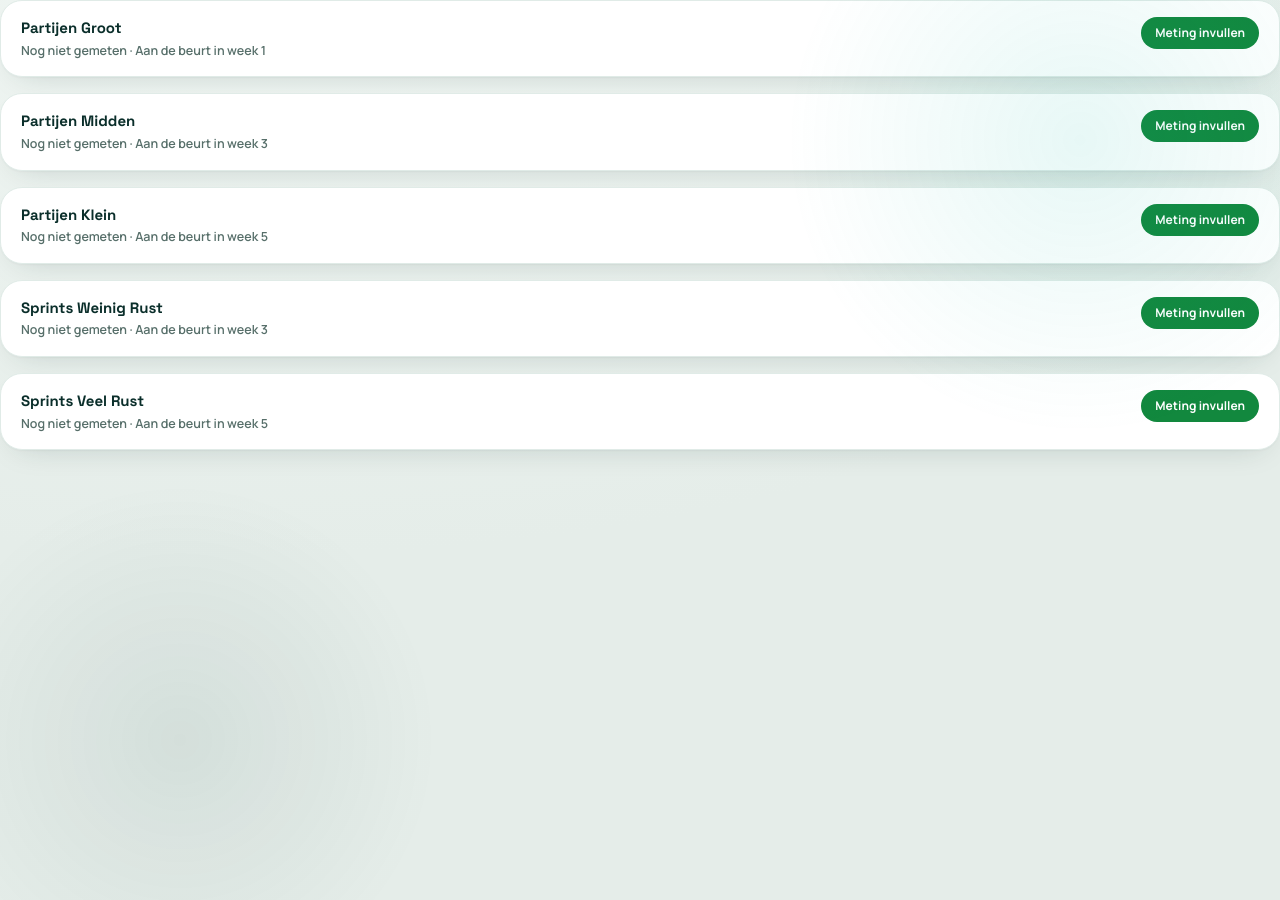
Test: SW1 — alle vijf de bladen sluiten met een veeg op de kop (echte componenten) › SW1: NulmetingManager
The width and height of the screenshot is (1280, 900).
Click the button "Meting invullen" in the row of "Partijen Groot": (1200, 33) [1141,17,1259,49]
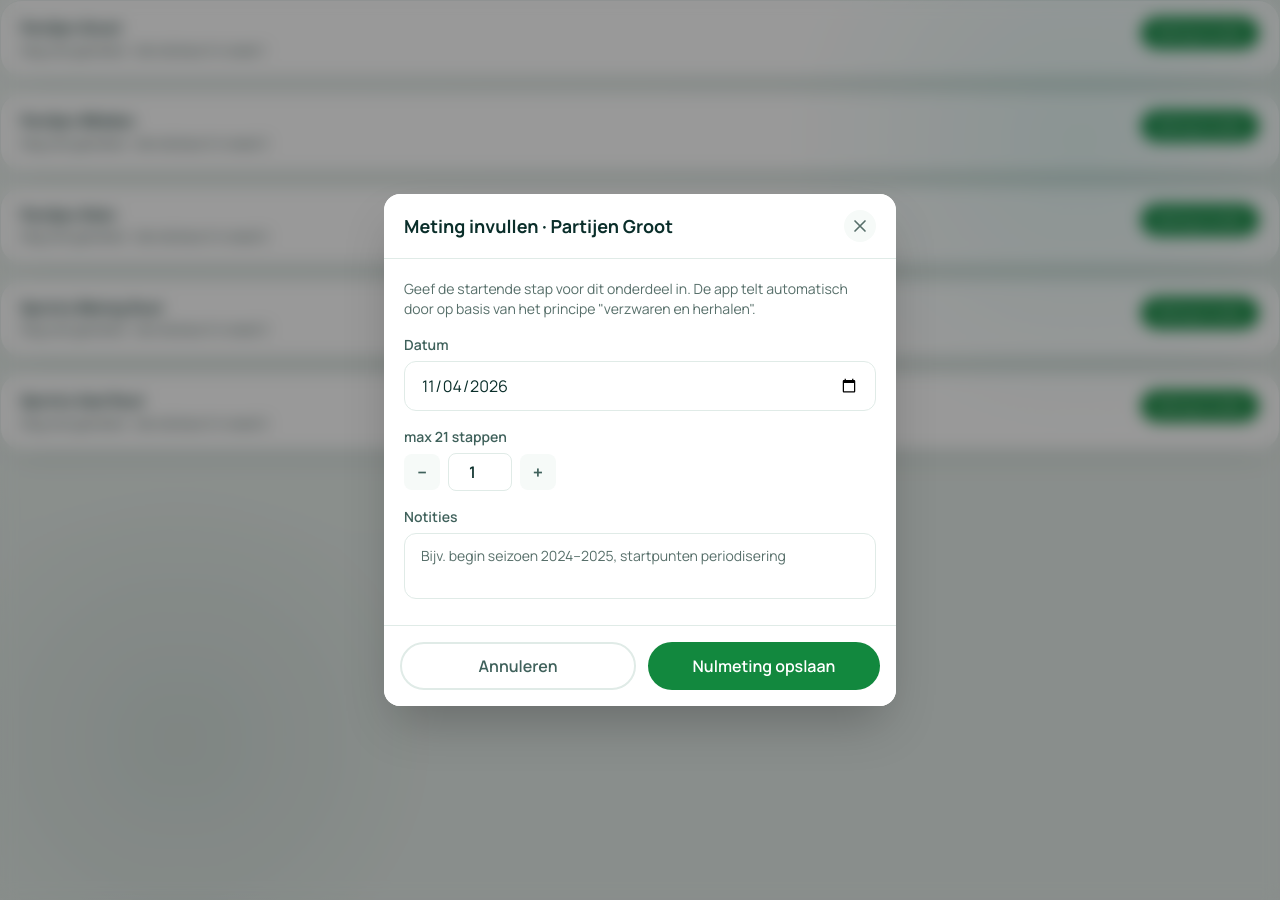
Now the dialog is shown, box [384,194,896,706]
Press the mouse on the element with test id "bottom-sheet-kop": (640, 226) [384,194,896,259]
Wait 290 ms
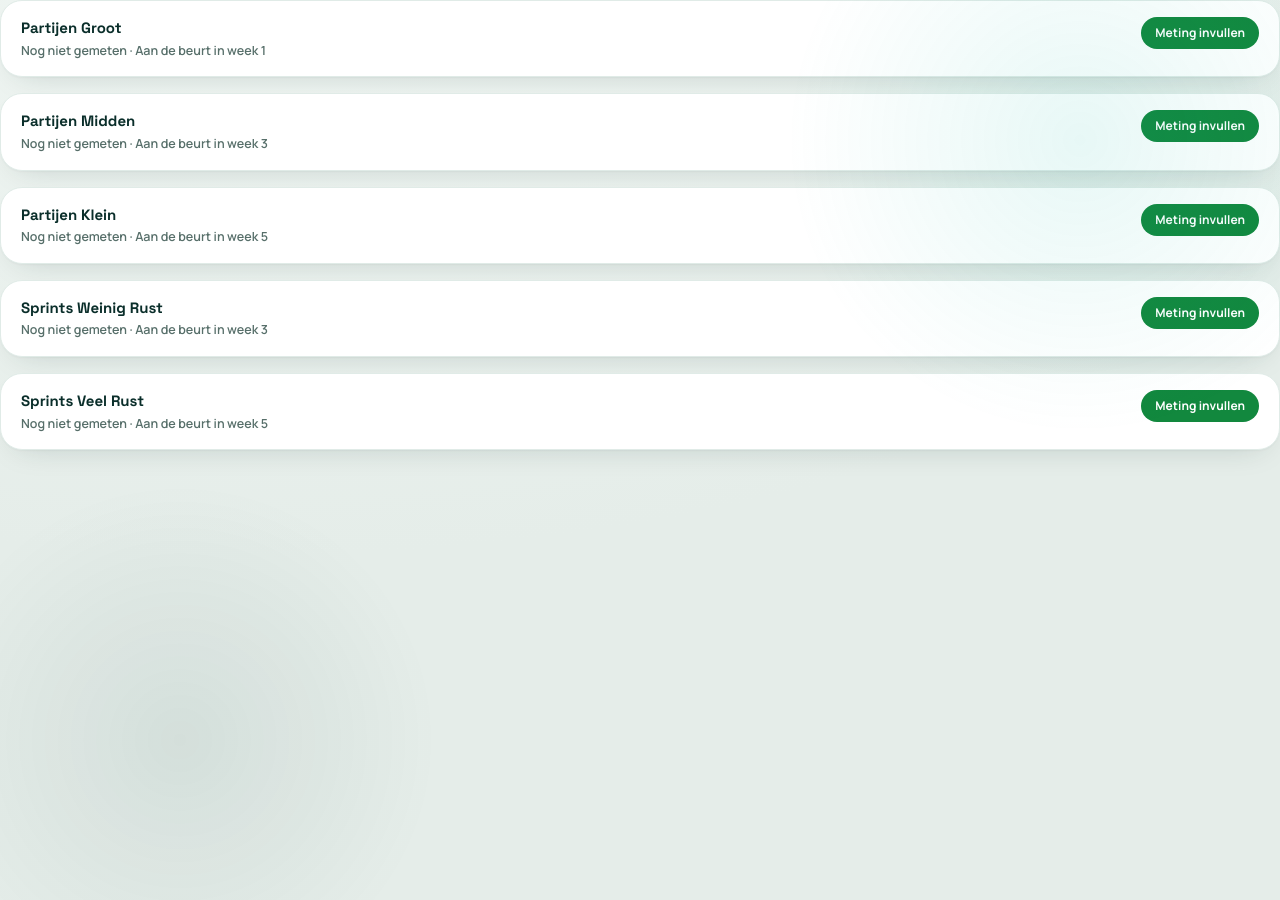
Now the dialog is gone
